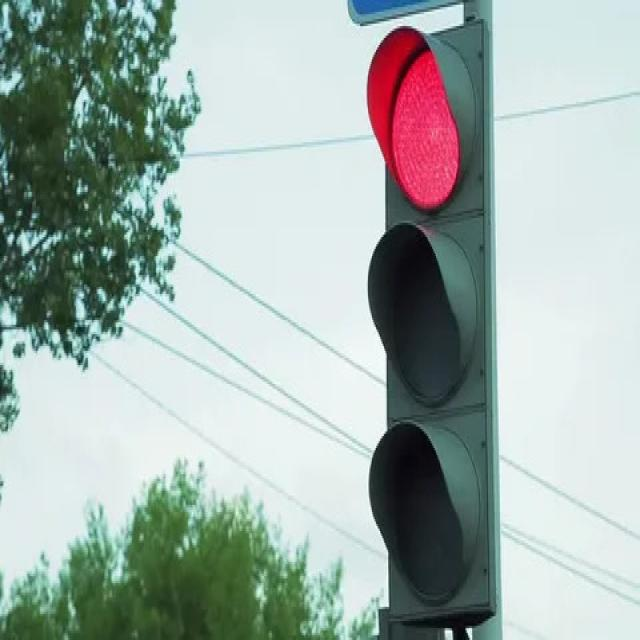kirmizi: (367, 20, 497, 621)
